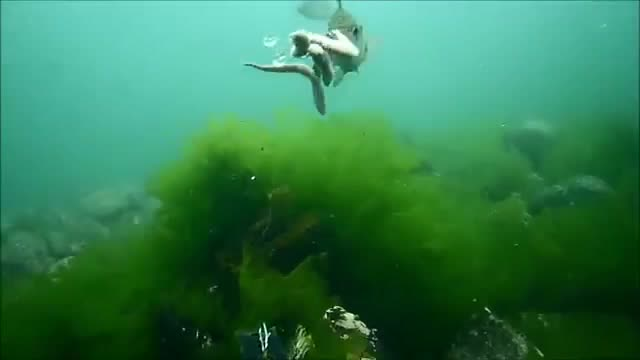mebaru: (316, 1, 364, 81)
